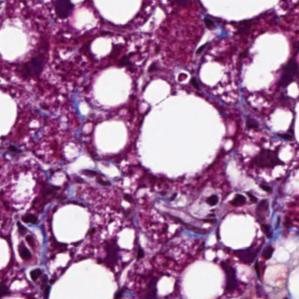inflammation: (203, 186, 263, 214), (46, 0, 86, 28)
